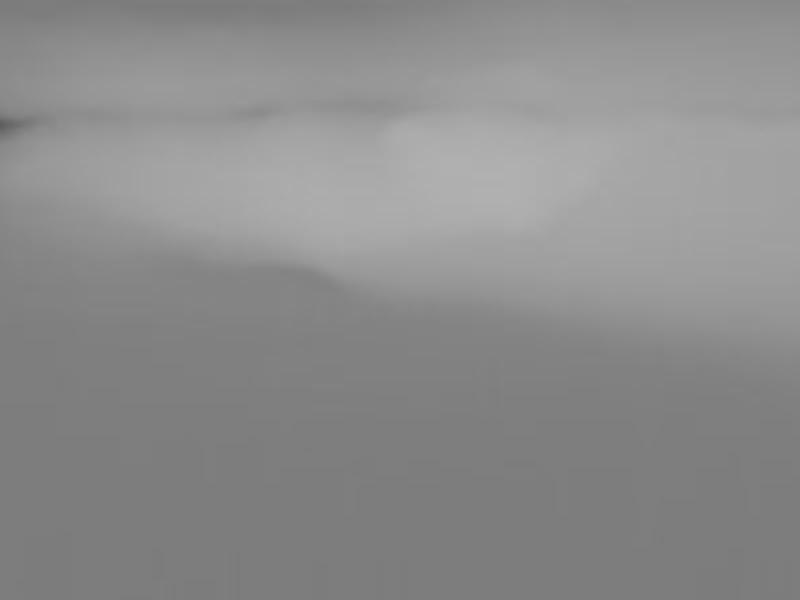defect: (5, 113, 29, 144)
